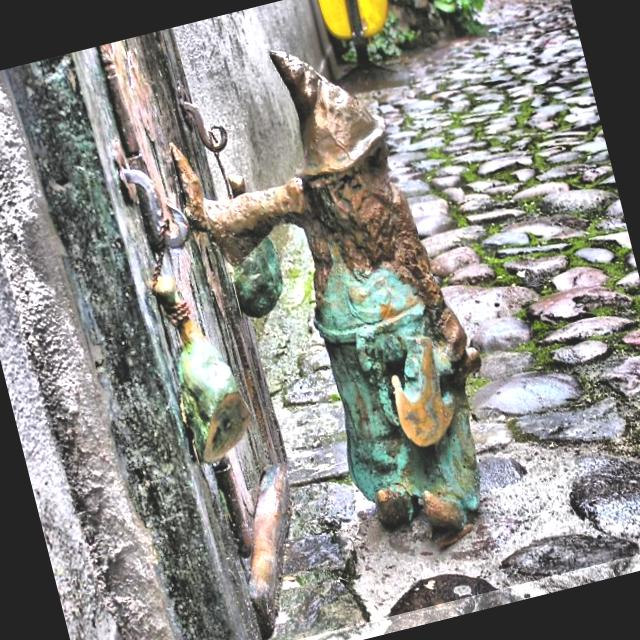Rzeznik: (172, 52, 480, 529)
